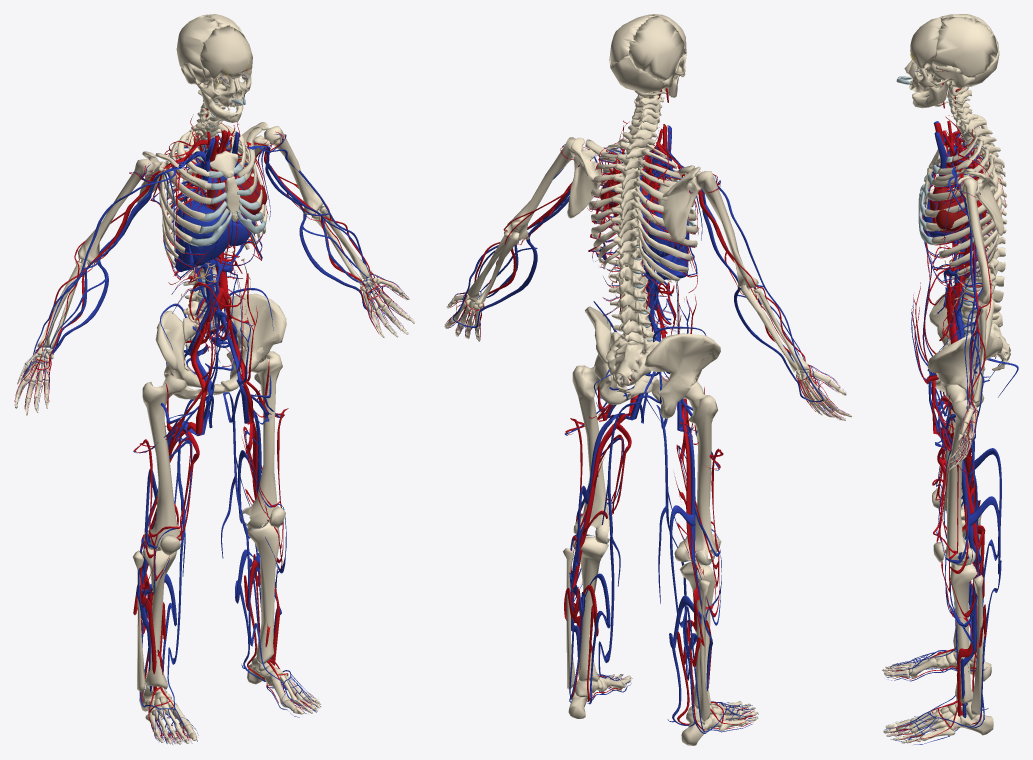
The model's file is f-vessels.glb.
3 views of the same model, side by side, from view 1: azimuth 30°, elevation 25°; view 2: azimuth 150°, elevation 25°; view 3: azimuth 270°, elevation 25° (orthographic). The views are drawn at different scales.
Visible parts, largest first — view 1: bone, vein, artery, heart; view 2: bone, vein, artery; view 3: bone, vein, artery, heart.
Part boxes in pixels (x1,y1,x2,y2): bone: (15,14,414,744); vein: (16,70,408,744); artery: (14,70,409,743); heart: (206,173,267,214); bone: (444,14,851,745); vein: (445,125,848,733); artery: (445,87,845,730); bone: (882,14,1010,743); vein: (884,70,1018,744); artery: (888,62,1005,741); heart: (929,186,968,232).
Bounding box in the file's own units: 1.01 × 1.66 × 0.2991.
